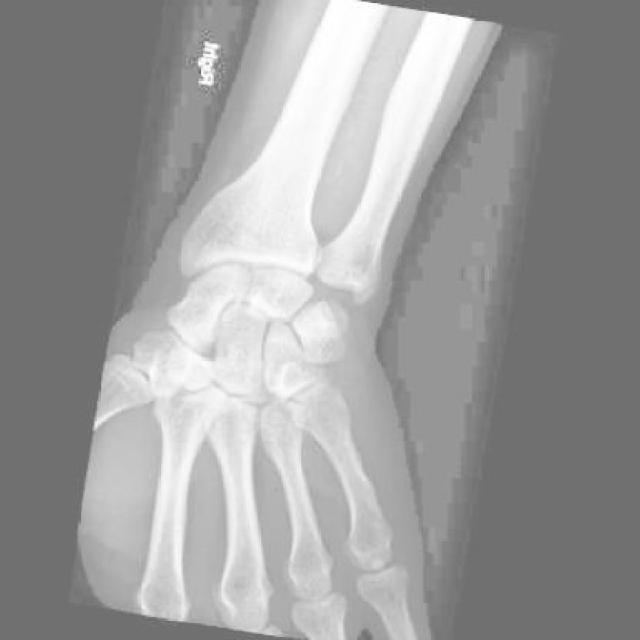Fracture: (283, 294, 346, 354)
